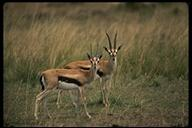antelope: (54, 30, 124, 110), (33, 51, 104, 121)
grass: (124, 14, 188, 74), (5, 18, 86, 61)
